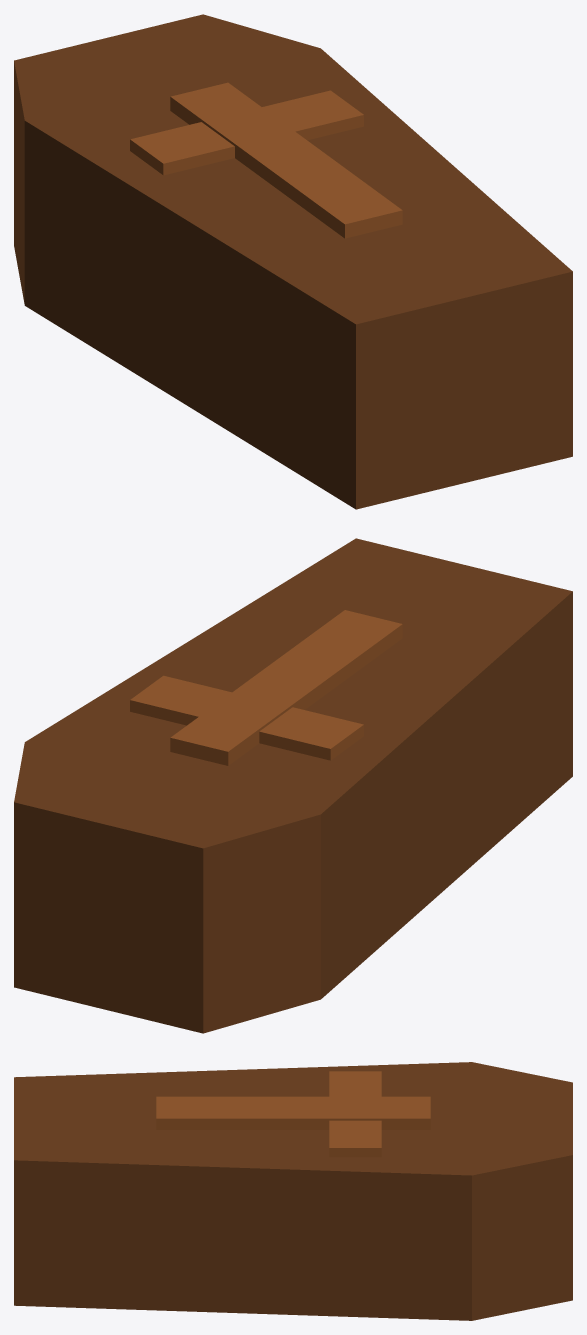
File: Ataud.fbx
3 views of the same model, one above another, from view 1: azimuth 30°, elevation 25°; view 2: azimuth 150°, elevation 25°; view 3: azimuth 270°, elevation 25° (orthographic). The views are drawn at different scales.
Parts seen in each view (by area): view 1: Cube, Cube.001, Cube.002; view 2: Cube, Cube.001, Cube.002; view 3: Cube, Cube.001, Cube.002.
Part boxes in pixels (x1=…): Cube: x1=14, y1=14, x2=572, y2=509; Cube.001: x1=170, y1=82, x2=402, y2=238; Cube.002: x1=130, y1=90, x2=363, y2=175; Cube: x1=14, y1=538, x2=572, y2=1033; Cube.001: x1=170, y1=610, x2=402, y2=765; Cube.002: x1=130, y1=675, x2=363, y2=760; Cube: x1=14, y1=1062, x2=572, y2=1320; Cube.001: x1=156, y1=1096, x2=430, y2=1129; Cube.002: x1=329, y1=1071, x2=381, y2=1157.
Bounding box in the file's own units: 39 × 25.1 × 81.21.
